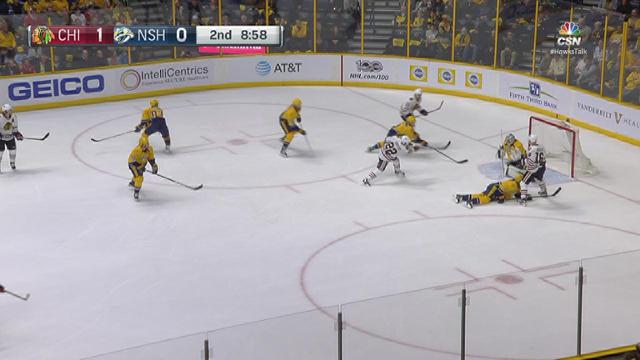geico: (7, 75, 109, 100)
